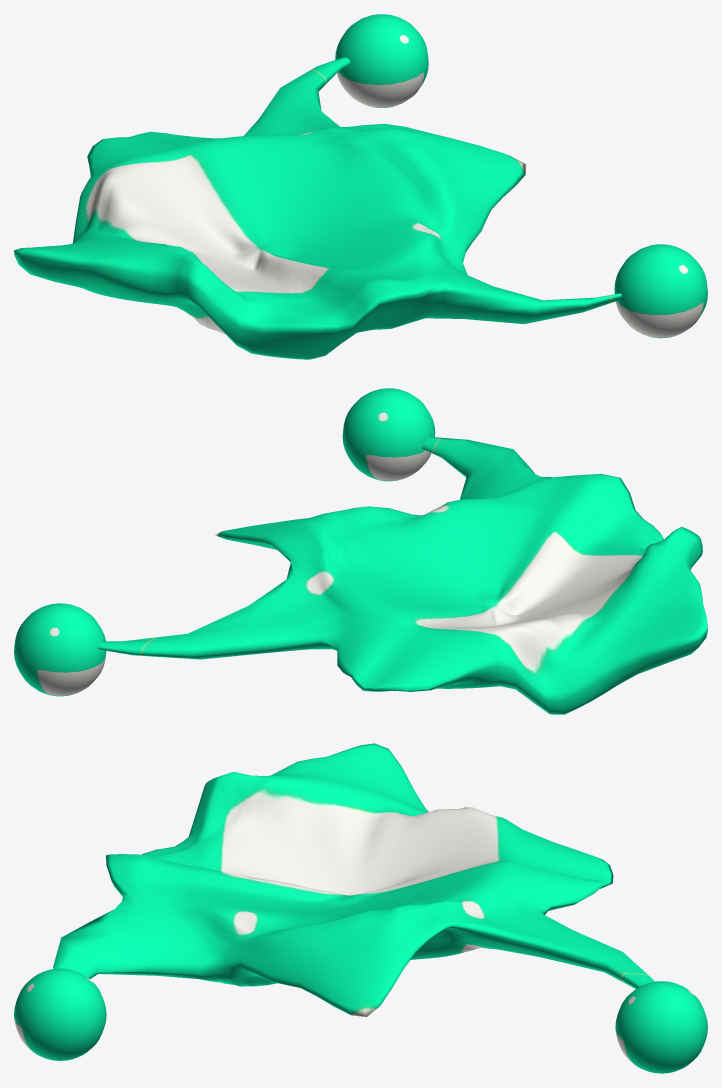
The model's file is Macro.fbx.
3 views of the same model, one above another, from view 1: azimuth 30°, elevation 25°; view 2: azimuth 150°, elevation 25°; view 3: azimuth 270°, elevation 25° (orthographic).
Visible parts, largest first — view 1: pSphere1, pSphere2, pasted__pSphere2; view 2: pSphere1, pasted__pSphere2, pSphere2; view 3: pSphere1, pSphere2, pasted__pSphere2.
Part boxes in pixels (box(x1,y1,x2,y2)): pSphere1: box(14, 57, 621, 359); pSphere2: box(614, 244, 707, 338); pasted__pSphere2: box(335, 14, 428, 107); pSphere1: box(98, 437, 707, 714); pasted__pSphere2: box(14, 603, 106, 696); pSphere2: box(342, 388, 435, 481); pSphere1: box(53, 743, 654, 1016); pSphere2: box(14, 968, 106, 1060); pasted__pSphere2: box(615, 981, 707, 1073).
Bounding box in the file's own units: 32.72 × 6.27 × 36.45.
Materials: 1 (1 with a texture image).
